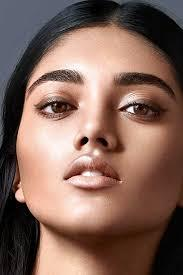Normal-Skin: (28, 38, 140, 217)
